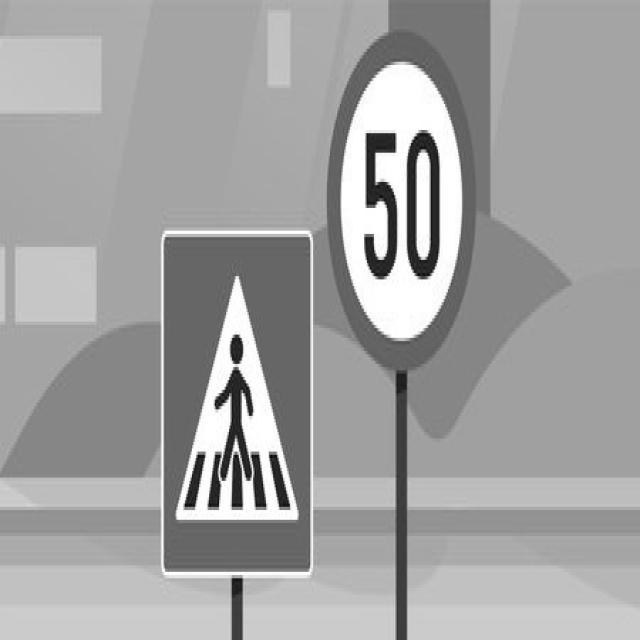indication: (160, 228, 313, 582)
speed_50: (323, 30, 478, 375)
